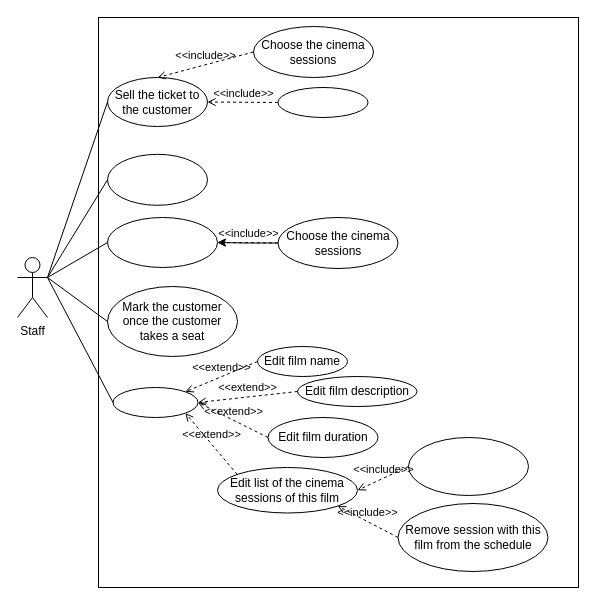
This 596x605 diagram has some shape labels left out. Here are the shapes that lost their labels. From the top down, the centre of each, then its label:
[322,102]: Choose a seat
[157,179]: Accept returned ticket
[162,242]: See all taken and free seats
[155,402]: Edit film info
[468,466]: Add session with this film to the schedule
